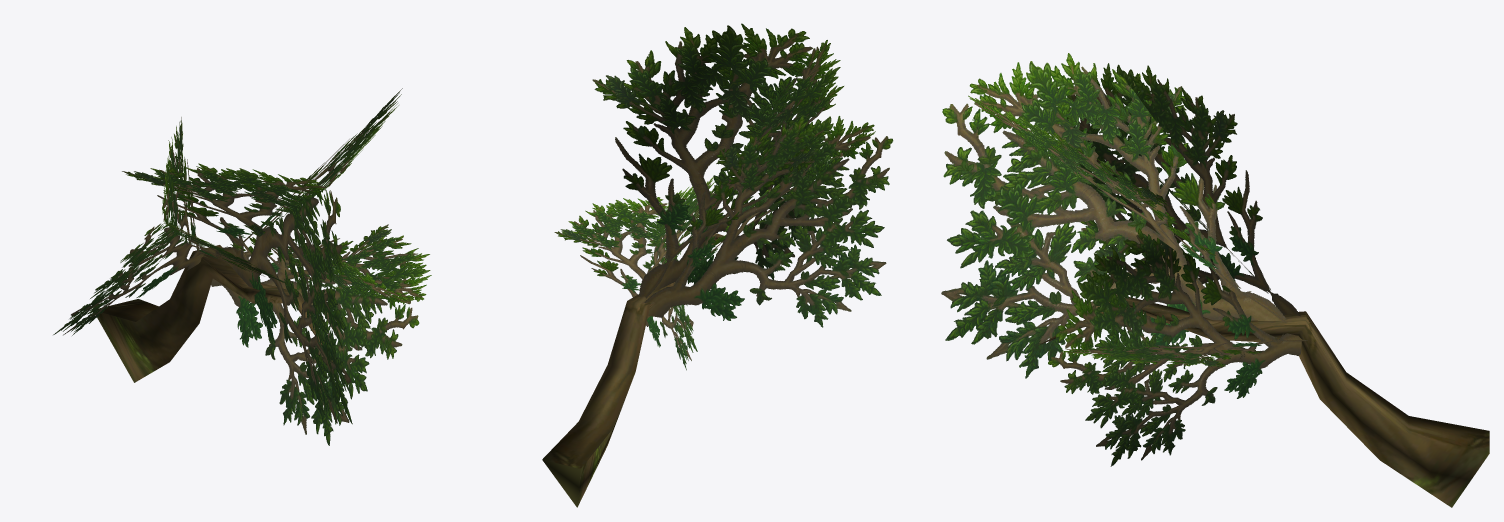
Rendered from sholazar_branch_small01.obj.
The picture shows the model from 3 angles, left to right: view 1: azimuth 30°, elevation 25°; view 2: azimuth 150°, elevation 25°; view 3: azimuth 270°, elevation 25°; orthographic projection. The views are drawn at different scales.
Visible parts, largest first — view 1: Geoset0, Geoset1; view 2: Geoset0, Geoset1; view 3: Geoset0, Geoset1.
Boxes of the visible parts, x1,y1,x2,y2 form: Geoset0: (53, 88, 431, 445); Geoset1: (96, 245, 332, 382); Geoset0: (554, 23, 893, 370); Geoset1: (542, 233, 724, 507); Geoset0: (941, 53, 1307, 466); Geoset1: (1038, 297, 1489, 507).
Bounding box in the file's own units: 47.4 × 42.79 × 51.07.
Materials: 2 (2 with a texture image).
